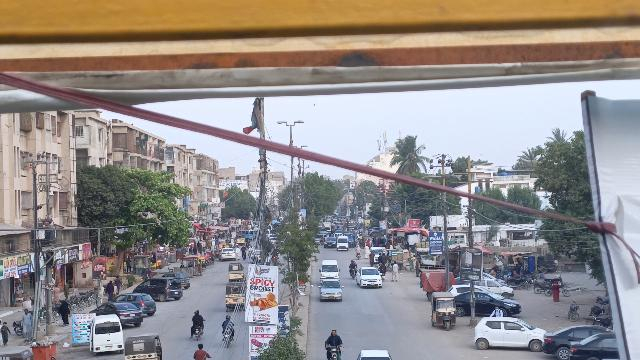Bike: (565, 300, 581, 322), (326, 343, 343, 360), (191, 325, 204, 342), (223, 330, 233, 348), (349, 267, 358, 280)
Car: (542, 324, 617, 360), (473, 316, 548, 351), (455, 292, 521, 316), (89, 301, 144, 327), (132, 277, 183, 302), (116, 293, 157, 317), (356, 266, 383, 289), (317, 279, 344, 301), (356, 349, 393, 360)
Person: (20, 306, 33, 342), (57, 298, 72, 327), (324, 327, 345, 346), (193, 343, 209, 360), (1, 320, 11, 346), (191, 309, 205, 327), (222, 314, 235, 333), (391, 261, 399, 281), (349, 258, 358, 269)
Rickshaw: (430, 291, 457, 331), (123, 334, 162, 360), (225, 282, 246, 311), (228, 262, 245, 282)
Van: (89, 314, 124, 357), (319, 260, 341, 283)
